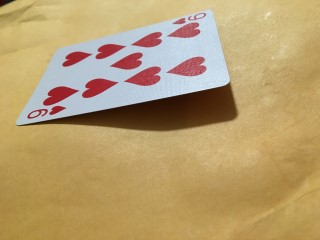NineOfHearts: (16, 10, 230, 125)
